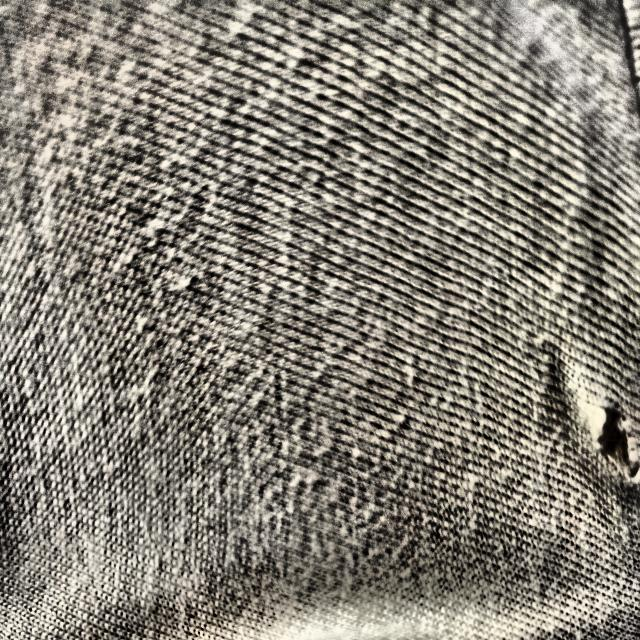Hole: (577, 385, 640, 498)
